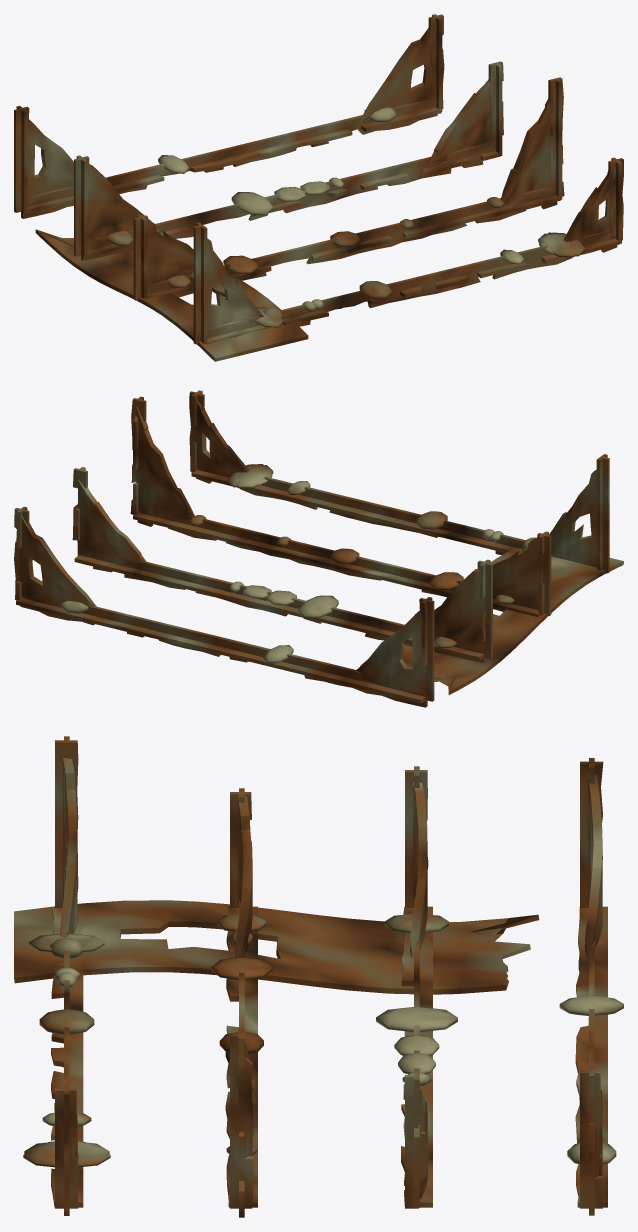
Rendered from wreck-ribs.glb.
3 renders of one model, top to bottom at view 1: azimuth 30°, elevation 25°; view 2: azimuth 150°, elevation 25°; view 3: azimuth 270°, elevation 25°, orthographic. The views are drawn at different scales.
Visible parts, largest first — view 1: wreck-ribs; view 2: wreck-ribs; view 3: wreck-ribs.
Part boxes in pixels (<box>): wreck-ribs: <box>14,14,623,361</box>; wreck-ribs: <box>14,390,623,707</box>; wreck-ribs: <box>14,736,623,1217</box>.
Size of the model in its own units: 2.89 by 0.8477 by 2.44.
